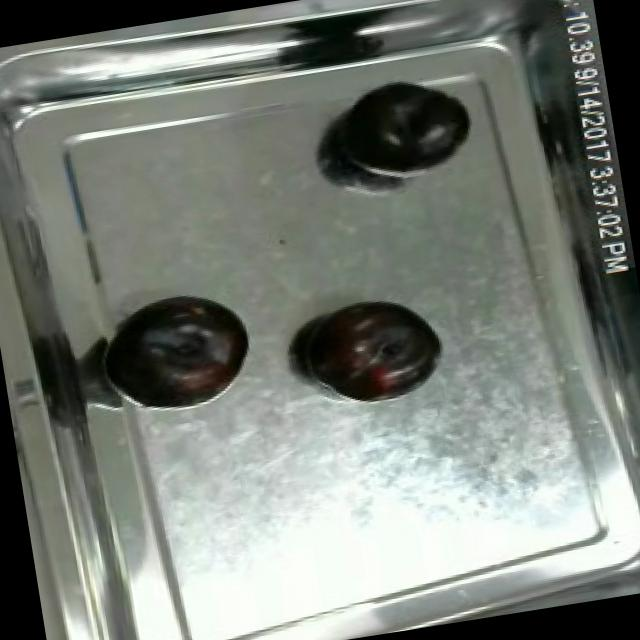Fruit: (94, 281, 264, 418), (318, 64, 485, 192), (290, 283, 454, 411)
